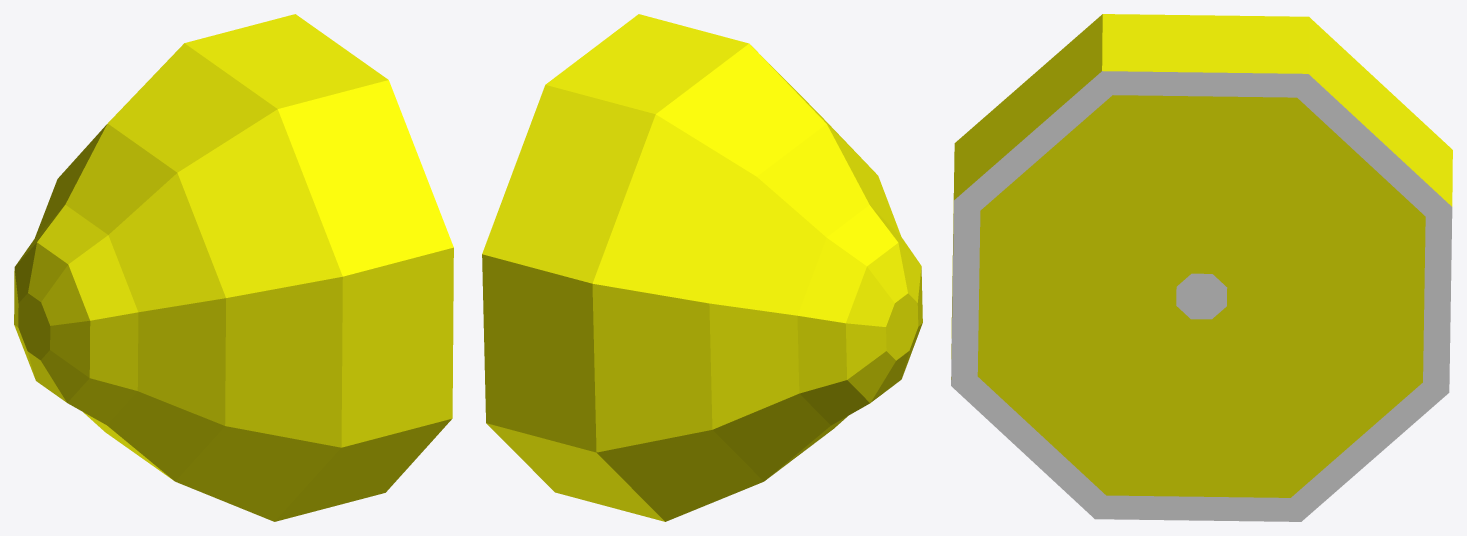
File: lemon02.gltf
The picture shows the model from 3 angles, left to right: view 1: azimuth 30°, elevation 25°; view 2: azimuth 150°, elevation 25°; view 3: azimuth 270°, elevation 25°; orthographic projection. The views are drawn at different scales.
Visible parts, largest first — view 1: Cylinder; view 2: Cylinder; view 3: Cylinder.
Part boxes in pixels (x1,y1,x2,y2): Cylinder: [14, 14, 453, 521]; Cylinder: [482, 14, 922, 521]; Cylinder: [951, 14, 1452, 521].
Bounding box in the file's own units: 0.0417 × 0.0533 × 0.0531.
1 material, 1 textured.
